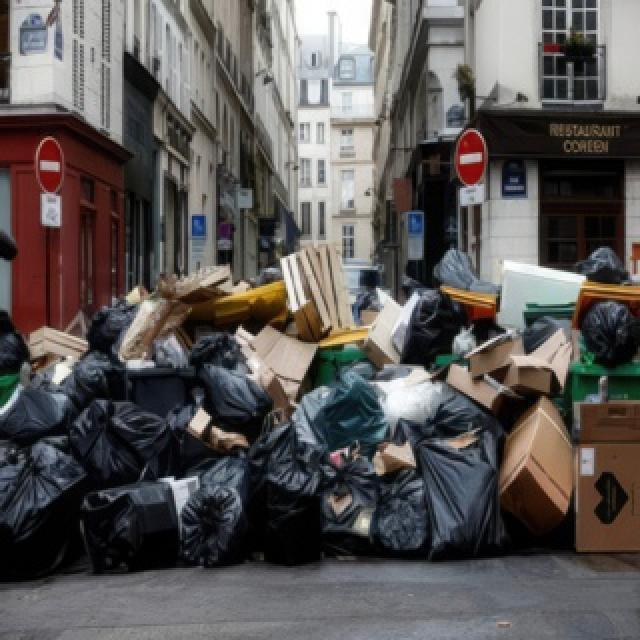Trashbag: (409, 431, 496, 540), (237, 438, 318, 548), (0, 448, 76, 554), (190, 359, 272, 442), (91, 478, 168, 560), (84, 389, 154, 472), (79, 335, 149, 413), (172, 479, 236, 564), (311, 389, 388, 448), (1, 372, 72, 430), (404, 297, 459, 364), (584, 298, 632, 372), (582, 250, 622, 280)
